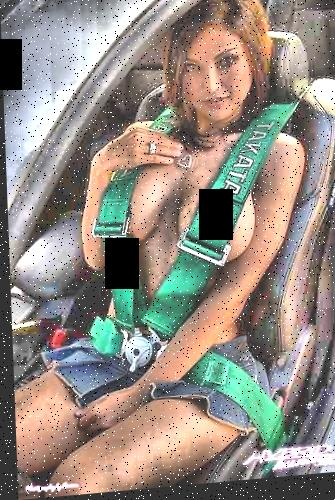seatbelt: (140, 104, 309, 323), (101, 123, 139, 324)
